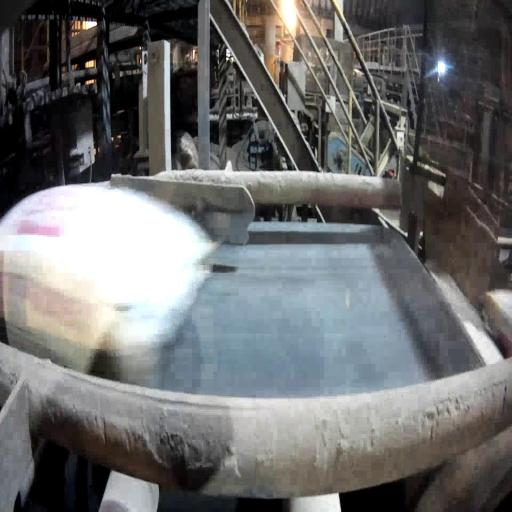c-belt-sack-count: (0, 185, 216, 384)
